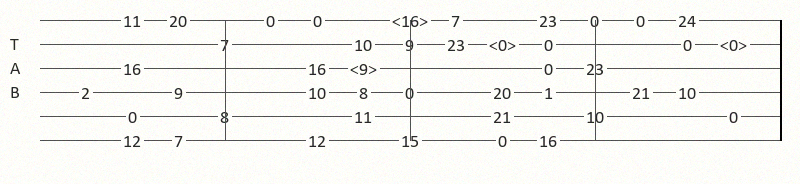0: (128, 109, 141, 124), (266, 13, 279, 28), (313, 13, 326, 28), (405, 85, 418, 100), (498, 133, 511, 148), (544, 37, 557, 52), (544, 61, 557, 76), (590, 13, 603, 28), (636, 13, 649, 28), (683, 37, 696, 52), (729, 109, 742, 124)
1: (544, 85, 557, 100)
10: (308, 85, 330, 100), (354, 37, 376, 52), (586, 109, 608, 124), (678, 85, 700, 100)
11: (123, 13, 145, 28), (354, 109, 376, 124)
12: (123, 133, 145, 148), (308, 133, 330, 148)
15: (401, 133, 423, 148)
16: (123, 61, 145, 76), (308, 61, 330, 76), (539, 133, 561, 148)
2: (81, 85, 94, 100)
20: (169, 13, 191, 28), (493, 85, 515, 100)
21: (493, 109, 515, 124), (632, 85, 654, 100)
23: (447, 37, 469, 52), (539, 13, 561, 28), (586, 61, 608, 76)
24: (678, 13, 700, 28)
7: (174, 133, 187, 148), (220, 37, 233, 52), (451, 13, 464, 28)
8: (220, 109, 233, 124), (359, 85, 372, 100)
9: (174, 85, 187, 100), (405, 37, 418, 52)
harmonic: (392, 13, 432, 28), (350, 61, 381, 76), (489, 37, 520, 52), (720, 37, 751, 52)
